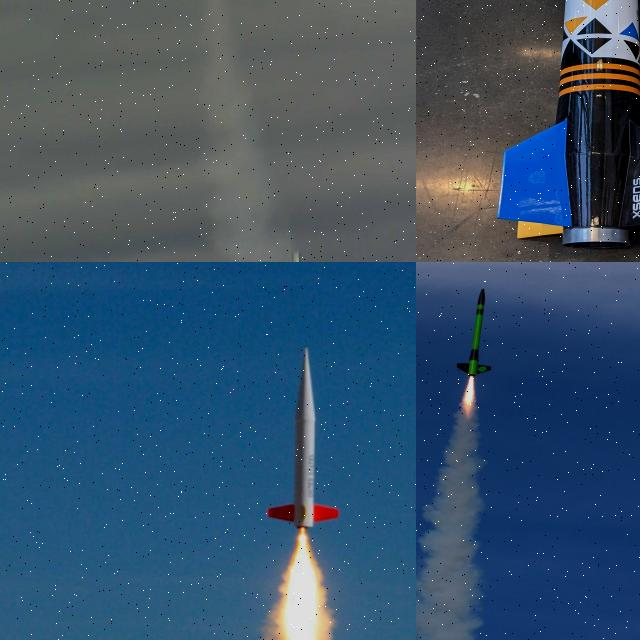Rocket: (496, 0, 640, 250), (266, 345, 340, 530), (456, 287, 492, 377)
